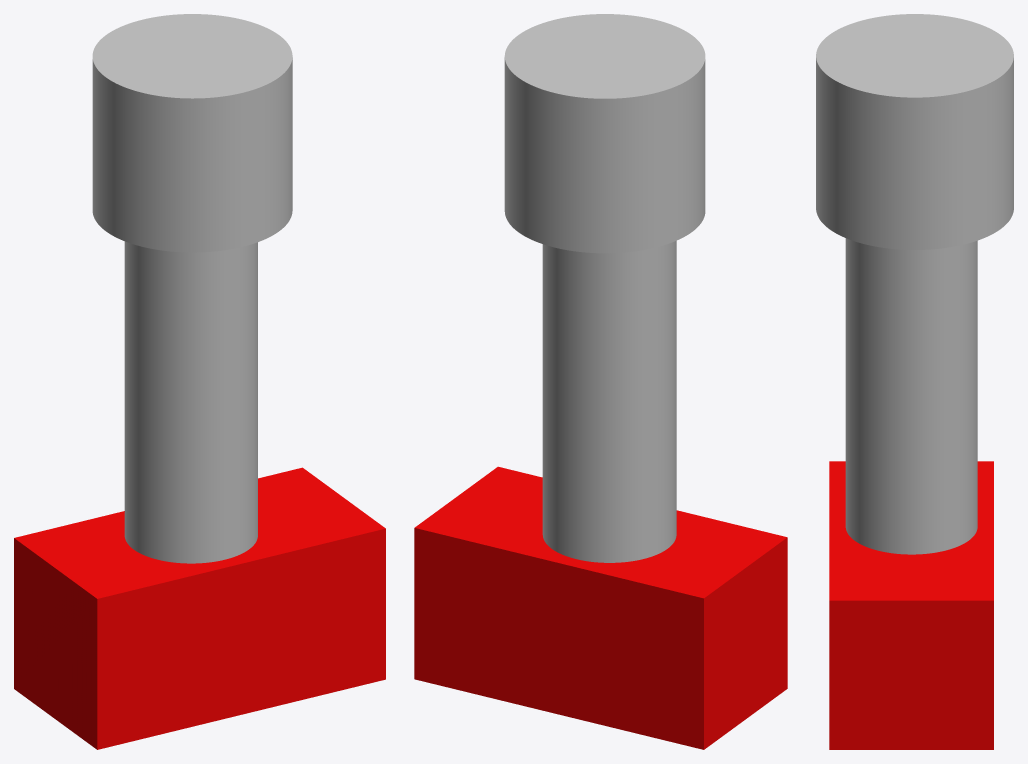
File: Pickbot_Griffpper.dae
3 views of the same model, side by side, from view 1: azimuth 30°, elevation 25°; view 2: azimuth 150°, elevation 25°; view 3: azimuth 270°, elevation 25° (orthographic).
Parts seen in each view (by area): view 1: node0, node1, node2; view 2: node0, node1, node2; view 3: node1, node2, node0.
Boxes of the visible parts, x1,y1,x2,y2 form: node0: [14, 467, 385, 749]; node1: [92, 14, 292, 252]; node2: [124, 241, 257, 563]; node0: [414, 466, 787, 749]; node1: [504, 14, 705, 253]; node2: [542, 241, 676, 562]; node1: [816, 14, 1013, 249]; node2: [845, 238, 977, 554]; node0: [829, 461, 993, 749].
Bounding box in the file's own units: 100 × 60 × 208.
